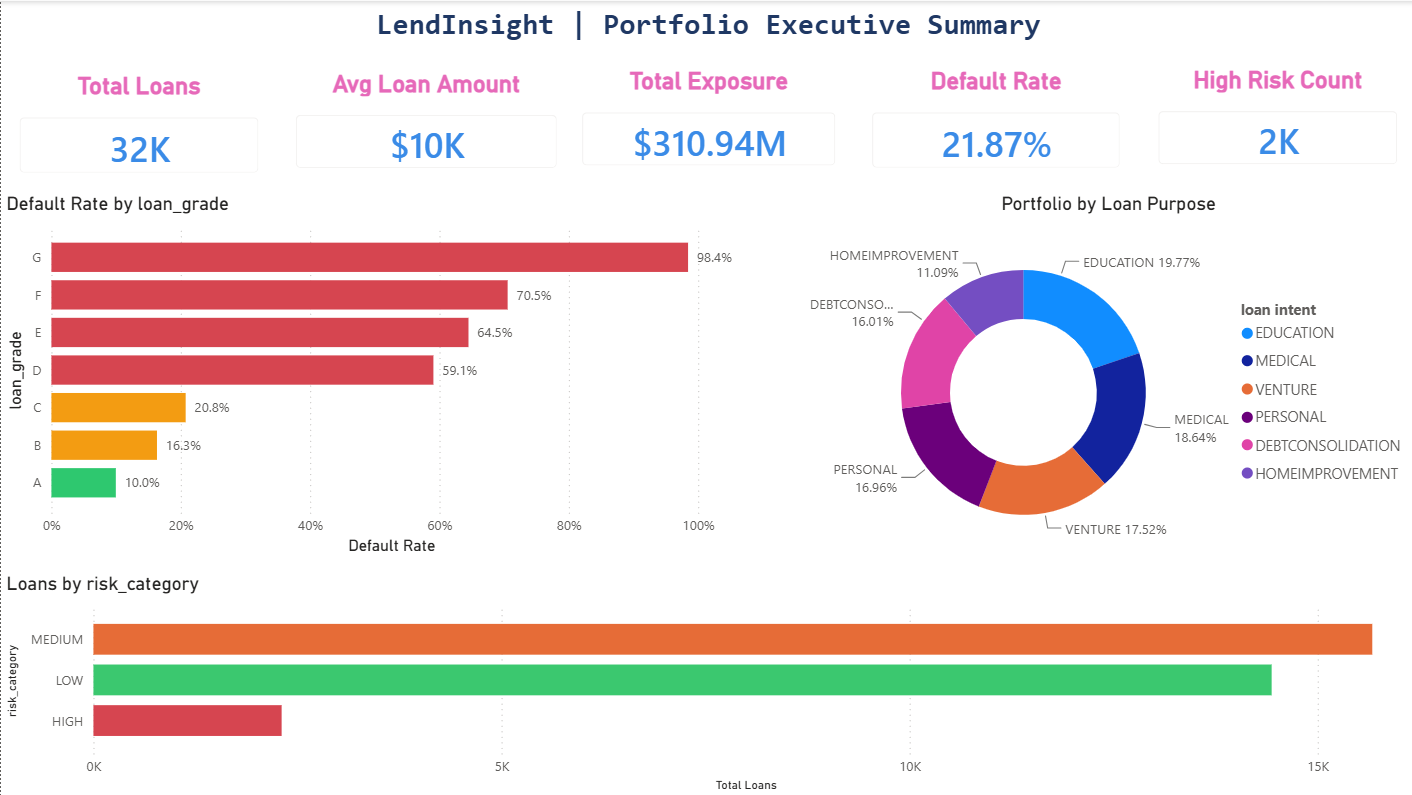

This screenshot's page, from the dashboard's own definition file:
{"tool":"powerbi","page":{"name":"Portfolio Executive Summary","canvas":[1280,720],"ordinal":0},"visuals":[{"type":"textbox","box":[0,0,1280,118.3],"z":0},{"type":"cardVisual","title":"Total Loans","fields":{"Data":["CountNonNull(credit_risk_segmented.loan_amnt)"]},"box":[0,65,250,108.3],"z":1000},{"type":"cardVisual","title":"Default Rate","fields":{"Data":["credit_risk_segmented.Default Rate"]},"box":[771.7,60,258.3,108.3],"z":2000},{"type":"cardVisual","title":"High Risk Count","fields":{"Data":["credit_risk_segmented.High Risk Count"]},"box":[1030,58.3,250,106.7],"z":3000},{"type":"cardVisual","title":"Total Exposure","fields":{"Data":["credit_risk_segmented.Total Exposure"]},"box":[508.3,60,263.3,106.7],"z":4000},{"type":"cardVisual","title":"Avg Loan Amount","fields":{"Data":["credit_risk_segmented.Avg Loan Amount"]},"box":[250,61.7,270,106.7],"z":5000},{"type":"clusteredBarChart","fields":{"Category":["credit_risk_segmented.loan_grade"],"Y":["credit_risk_segmented.Default Rate"]},"box":[0,173.3,681.7,333.3],"z":6000},{"type":"donutChart","title":"Portfolio by Loan Purpose","fields":{"Y":["credit_risk_segmented.Total Loans"],"Category":["credit_risk_segmented.loan_intent"]},"box":[723.3,173.3,556.7,343.3],"z":7000},{"type":"clusteredBarChart","title":"Loans by risk_category","fields":{"Y":["credit_risk_segmented.Total Loans"],"Category":["credit_risk_segmented.risk_category"]},"box":[0,516.7,1280,203.3],"z":8000}]}

Visuals, with their boxes in screenshot pixels (x1, y1, x2, y2), scaled from the page's 1280x720 canvas onto the 1412x795 screenshot:
textbox: BBox(0, 0, 1411, 131)
"Total Loans" cardVisual: BBox(0, 72, 276, 191)
"Default Rate" cardVisual: BBox(851, 66, 1136, 186)
"High Risk Count" cardVisual: BBox(1136, 64, 1411, 182)
"Total Exposure" cardVisual: BBox(561, 66, 851, 184)
"Avg Loan Amount" cardVisual: BBox(276, 68, 574, 186)
clusteredBarChart - credit_risk_segmented.loan_grade x credit_risk_segmented.Default Rate: BBox(0, 191, 752, 559)
"Portfolio by Loan Purpose" donutChart: BBox(798, 191, 1411, 570)
"Loans by risk_category" clusteredBarChart: BBox(0, 571, 1411, 794)
